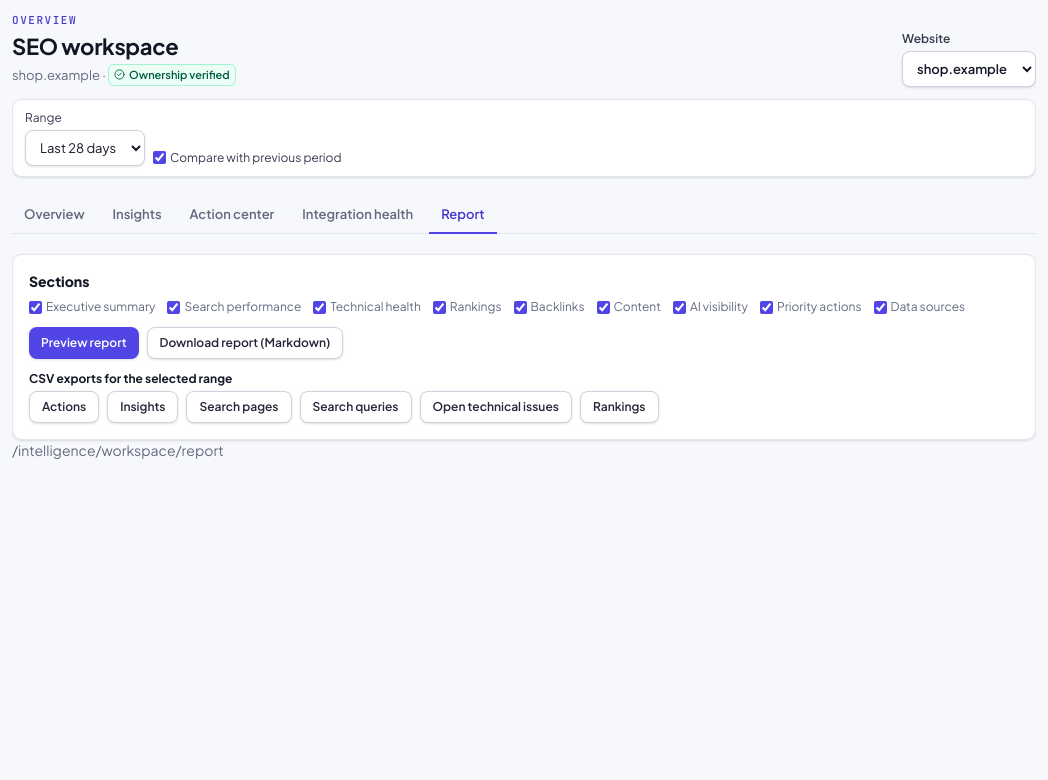
Test: Integration health and reports › previews a report with provenance and reports export errors
Click the checkbox labelled "Backlinks" at {"x": 520, "y": 307}, box 514,301 -> 526,314
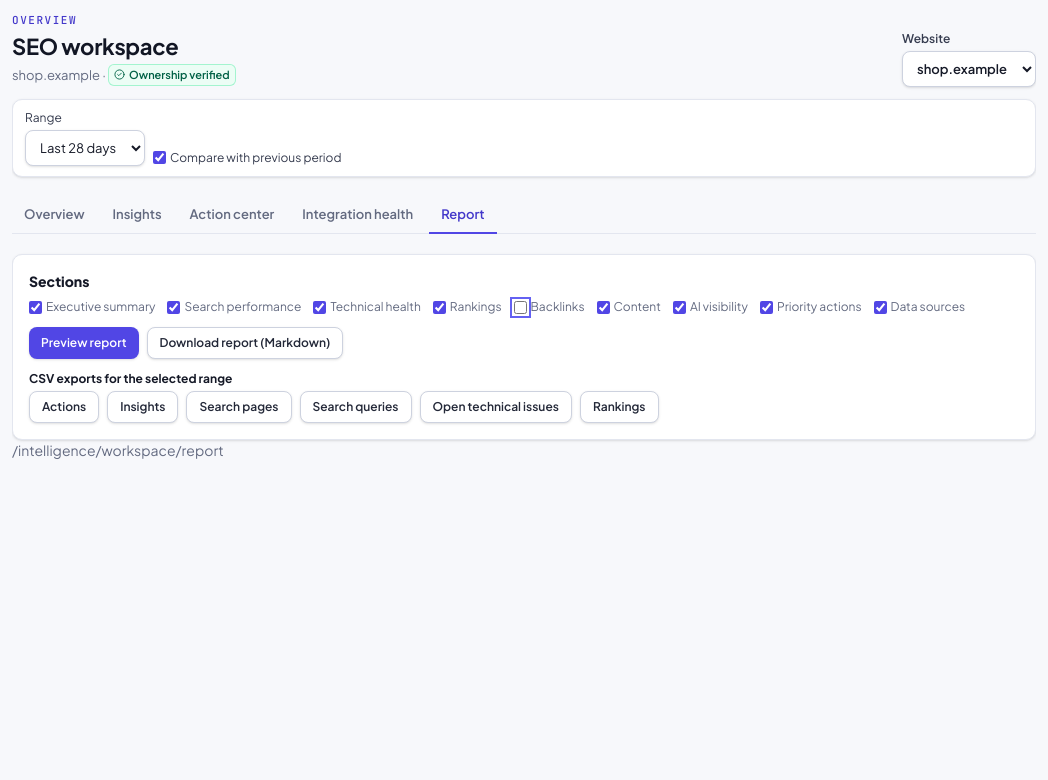
Click the button "Preview report" at {"x": 84, "y": 343}, box 29,327 -> 138,359
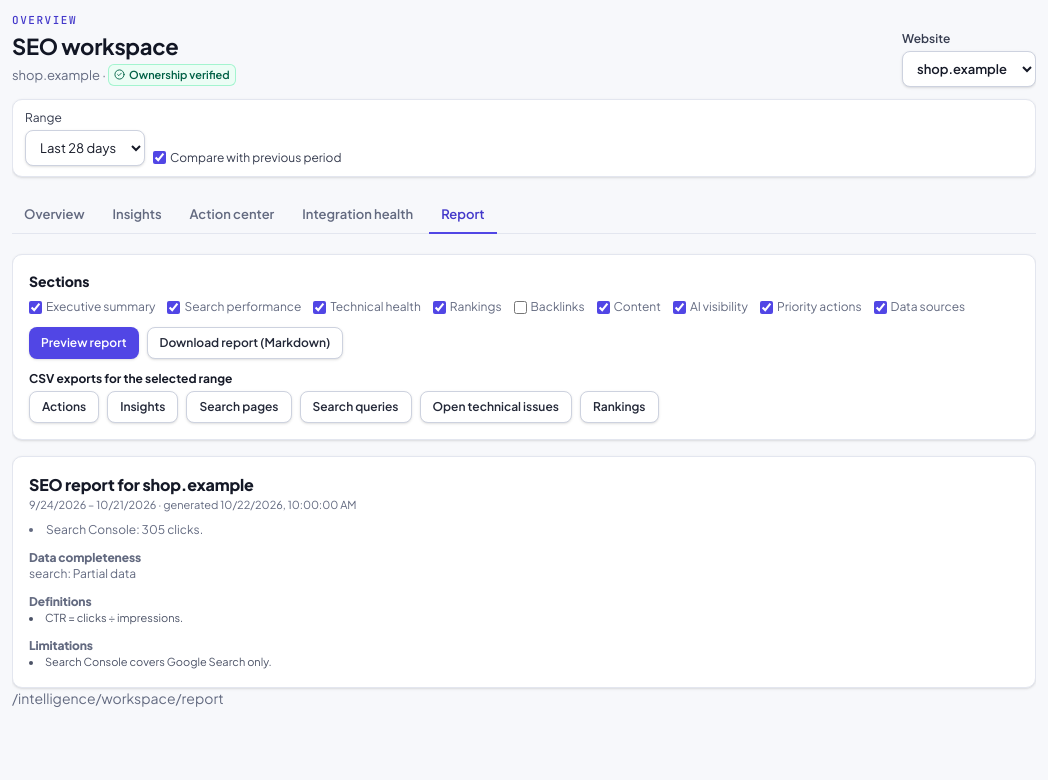
Expected: the heading "SEO report for shop.example" is shown, 29,474 -> 254,495
Expected: the list item "search: Partial data" is shown, 29,566 -> 136,581
Expected: the list item "Search Console covers Google Search only." is shown, 45,655 -> 272,668
Click the button "Search queries" at {"x": 356, "y": 407}, box 300,391 -> 412,423
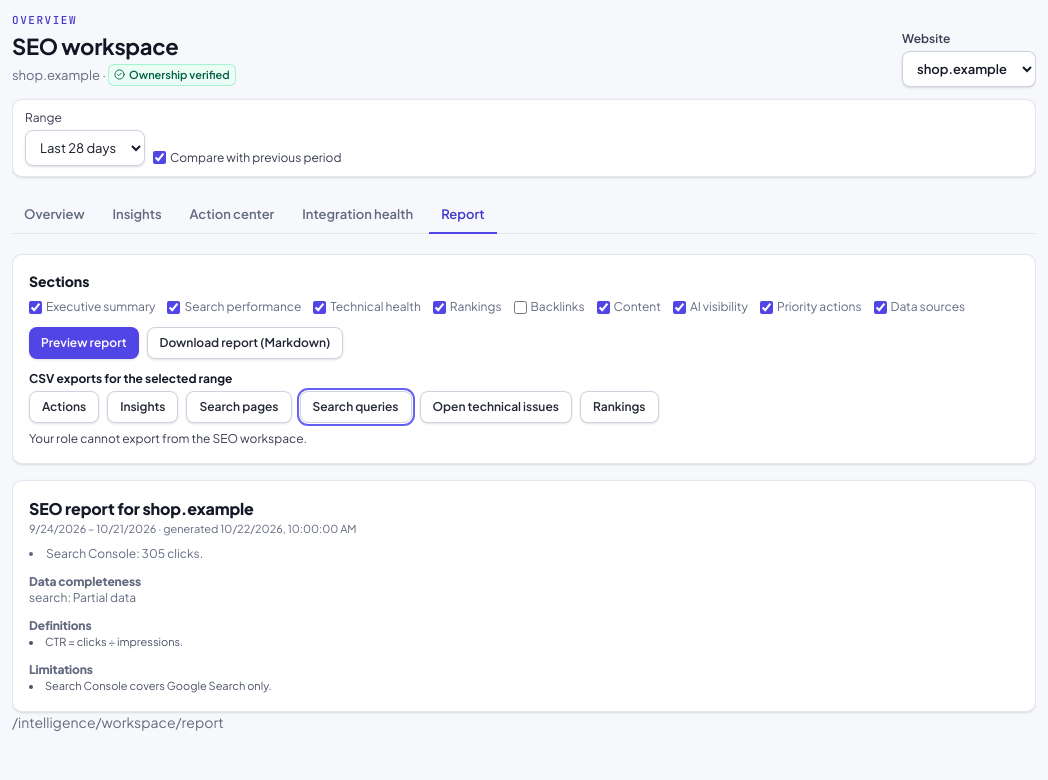
Expected: the text "Your role cannot export from the SEO workspace." is shown, 29,431 -> 307,446
